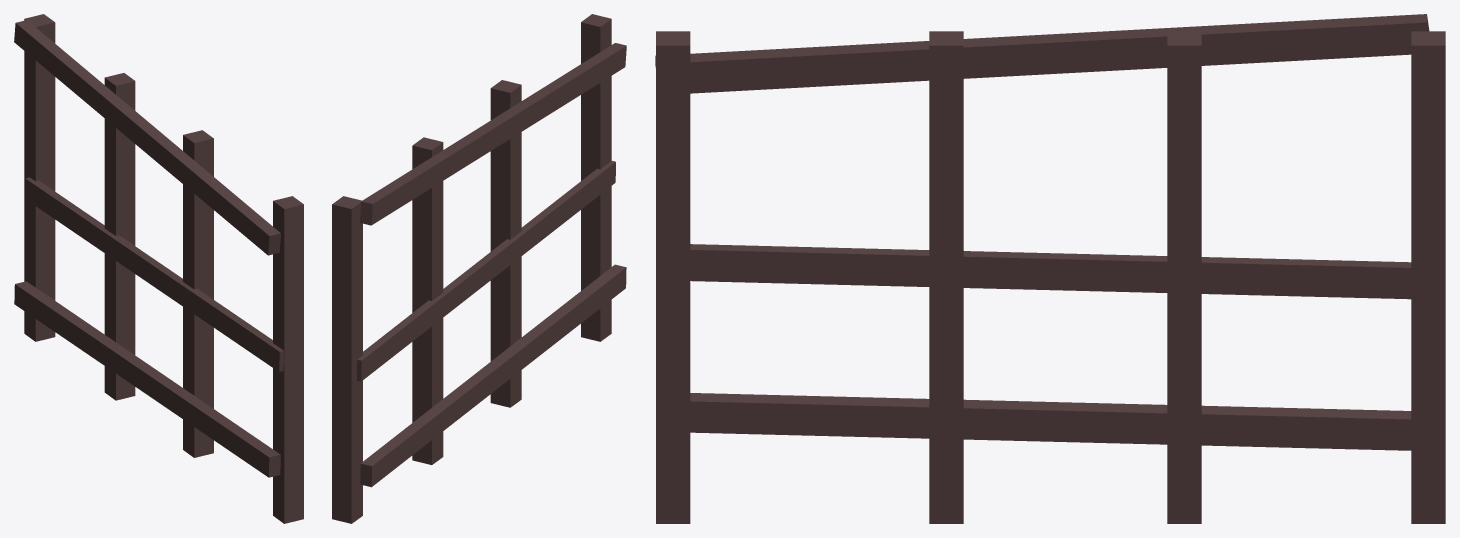
The model's file is prop_38.FBX.
The picture shows the model from 3 angles, left to right: view 1: azimuth 30°, elevation 25°; view 2: azimuth 150°, elevation 25°; view 3: azimuth 270°, elevation 25°; orthographic projection. The views are drawn at different scales.
Parts seen in each view (by area): view 1: prop_38; view 2: prop_38; view 3: prop_38.
Part boxes in pixels (left/top/right/bottom): prop_38: left=14, top=14, right=303, bottom=523; prop_38: left=332, top=14, right=626, bottom=523; prop_38: left=655, top=14, right=1445, bottom=523.
Bounding box in the file's own units: 8.89 × 78.52 × 116.
